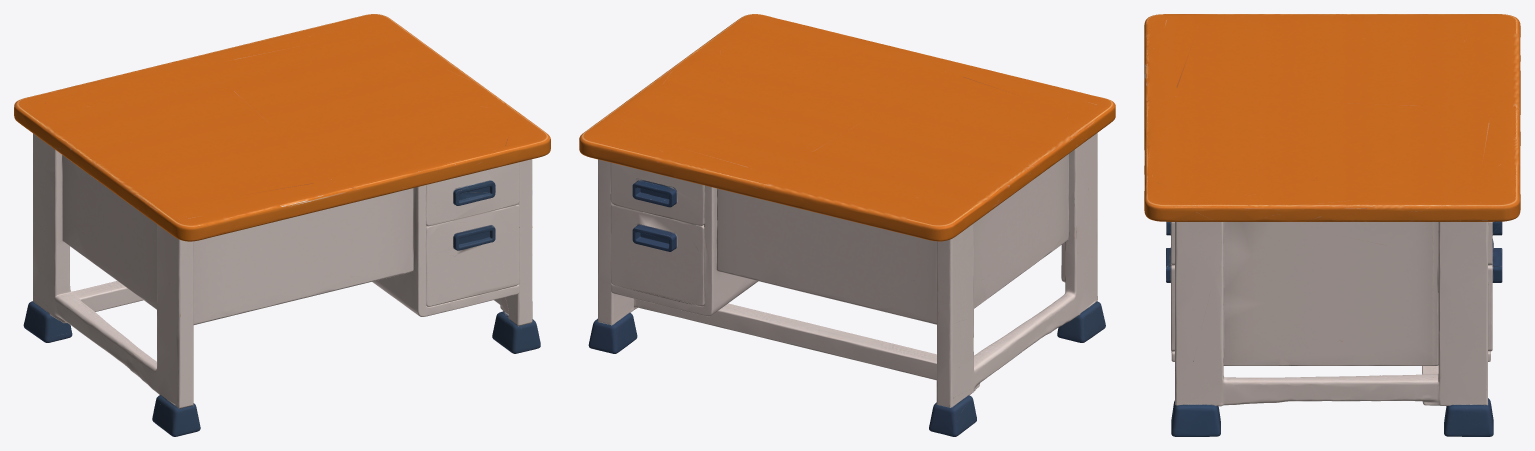
The model's file is Meshy_AI_Orange_Office_Desk_1017073448_texture.fbx.
3 views of the same model, side by side, from view 1: azimuth 30°, elevation 25°; view 2: azimuth 150°, elevation 25°; view 3: azimuth 270°, elevation 25° (orthographic). The views are drawn at different scales.
Parts seen in each view (by area): view 1: Mesh_0; view 2: Mesh_0; view 3: Mesh_0.
Part boxes in pixels (left/top/right/bottom): Mesh_0: left=14, top=14, right=550, bottom=436; Mesh_0: left=579, top=14, right=1115, bottom=436; Mesh_0: left=1144, top=14, right=1520, bottom=436.
Size of the model in its own units: 190 by 106 by 156.
1 material, 1 textured.
